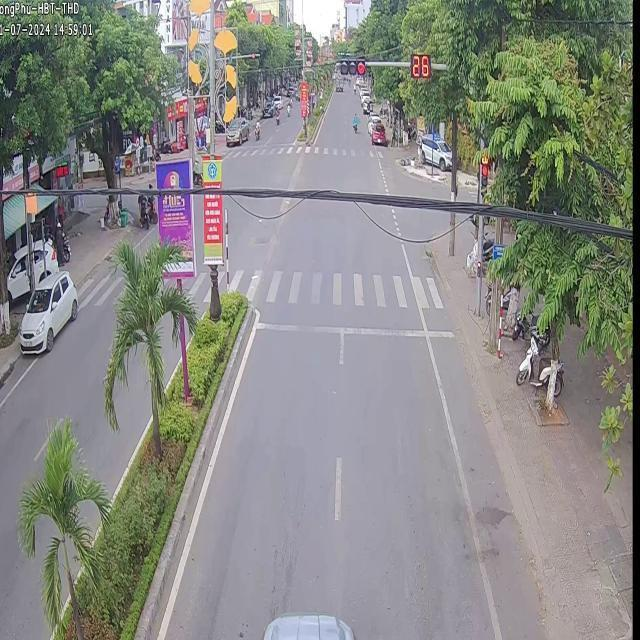car: (17, 269, 77, 350)
red_light: (479, 157, 489, 206), (412, 54, 432, 78), (340, 59, 365, 75)
stop_line: (251, 317, 453, 339)
